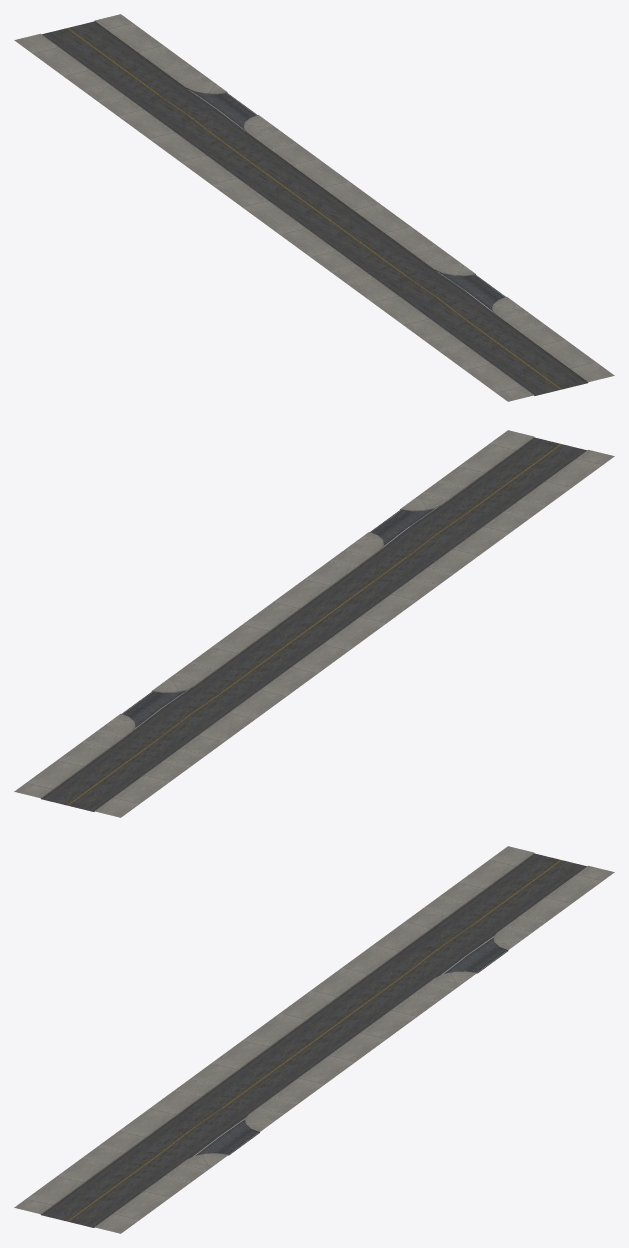
The model's file is vegasnroad084.obj.
3 views of the same model, one above another, from view 1: azimuth 30°, elevation 25°; view 2: azimuth 150°, elevation 25°; view 3: azimuth 330°, elevation 25° (orthographic).
Parts seen in each view (by area): view 1: VegasNroad084; view 2: VegasNroad084; view 3: VegasNroad084.
Part boxes in pixels (x1=…): VegasNroad084: x1=14, y1=14, x2=614, y2=401; VegasNroad084: x1=14, y1=430, x2=614, y2=817; VegasNroad084: x1=14, y1=846, x2=614, y2=1233.
Bounding box in the file's own units: 20.01 × 0.2216 × 160.
Materials: 3 (3 with a texture image).
